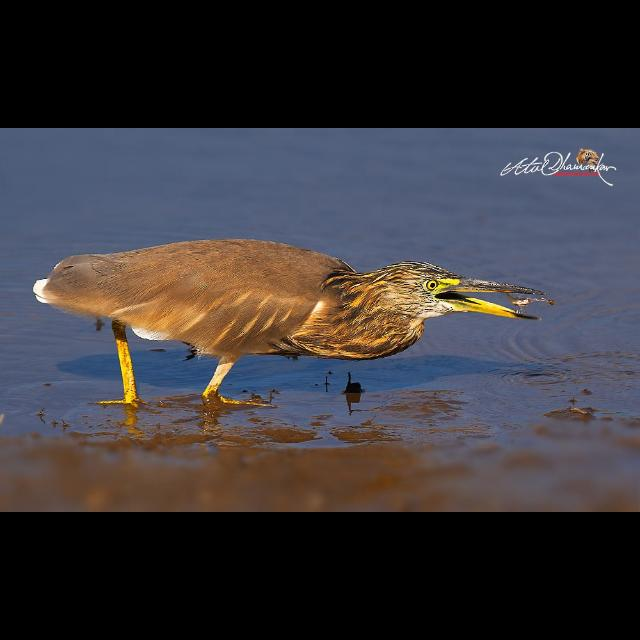heron: (25, 226, 557, 414)
